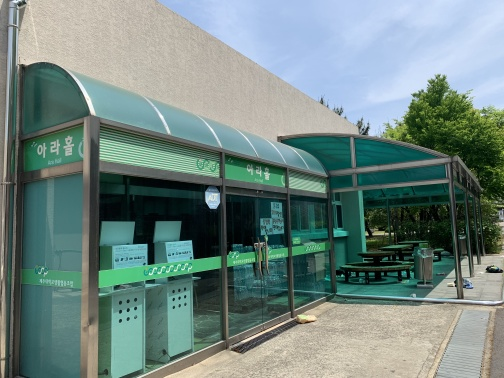Ara Hall: (2, 53, 489, 345), (213, 149, 293, 191), (17, 128, 96, 165)
